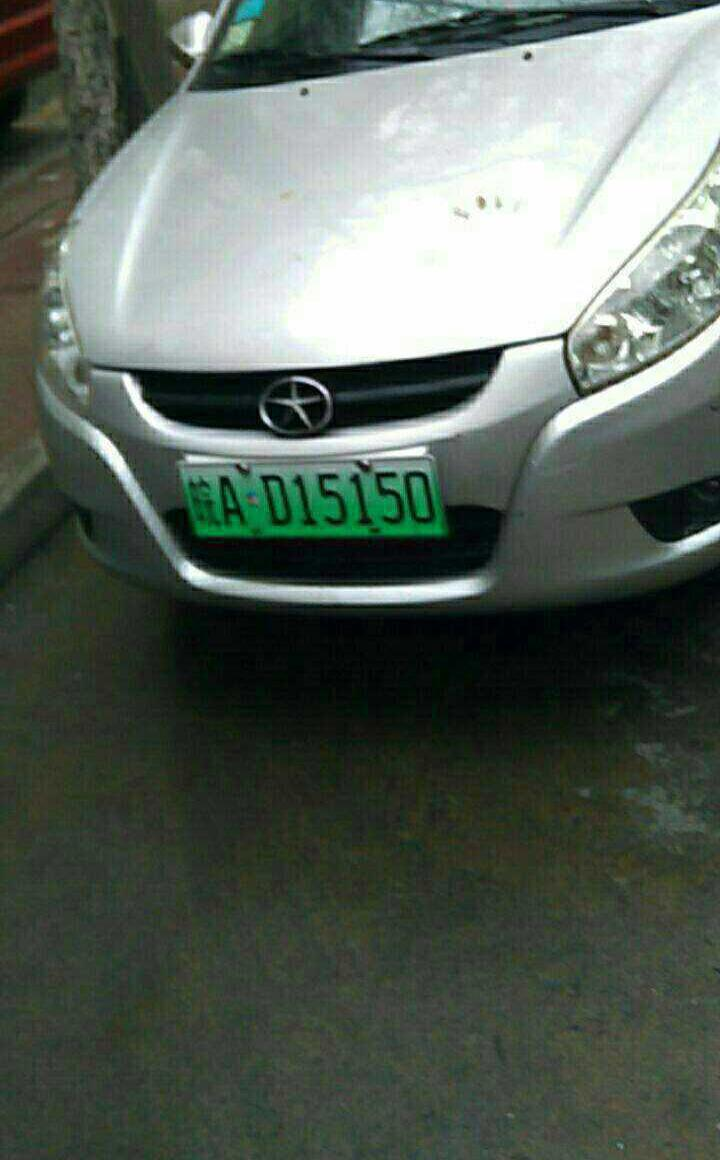car: (186, 457, 446, 551)
